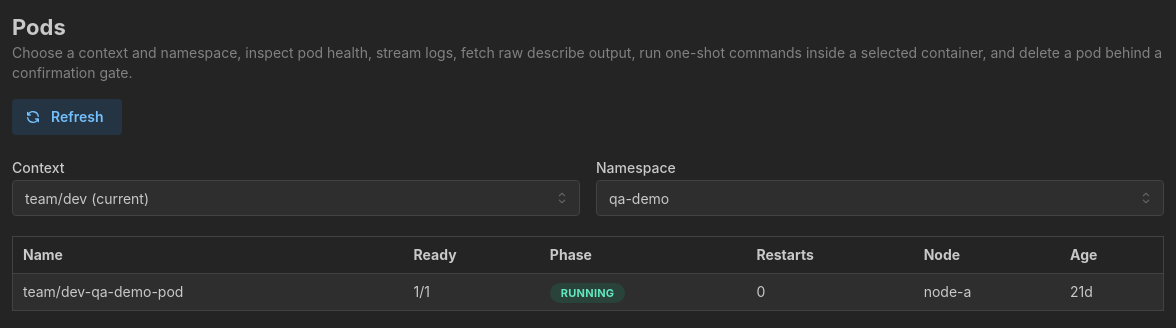
Test: PodsPanel › uses the context and namespace selectors to drive pod queries
Check: the text "team/dev-qa-demo-pod" is shown, box left=12, top=273, right=404, bottom=310
Click the field labelled "Context": (296,198) left=12, top=180, right=580, bottom=216
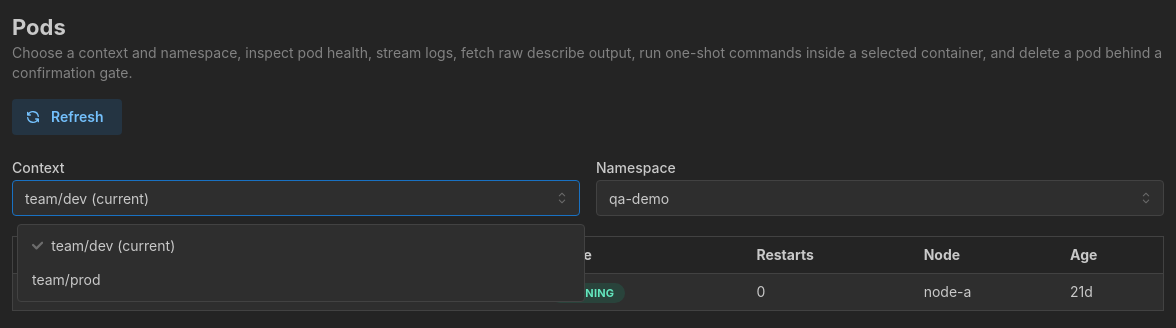
Click the option "team/prod": (66,279) left=32, top=271, right=100, bottom=288
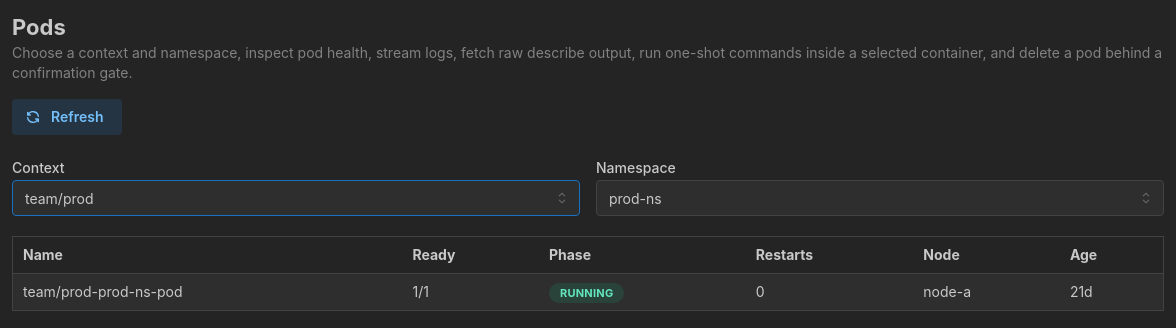
Check: the text "team/prod-prod-ns-pod" is shown, box left=12, top=273, right=402, bottom=310
